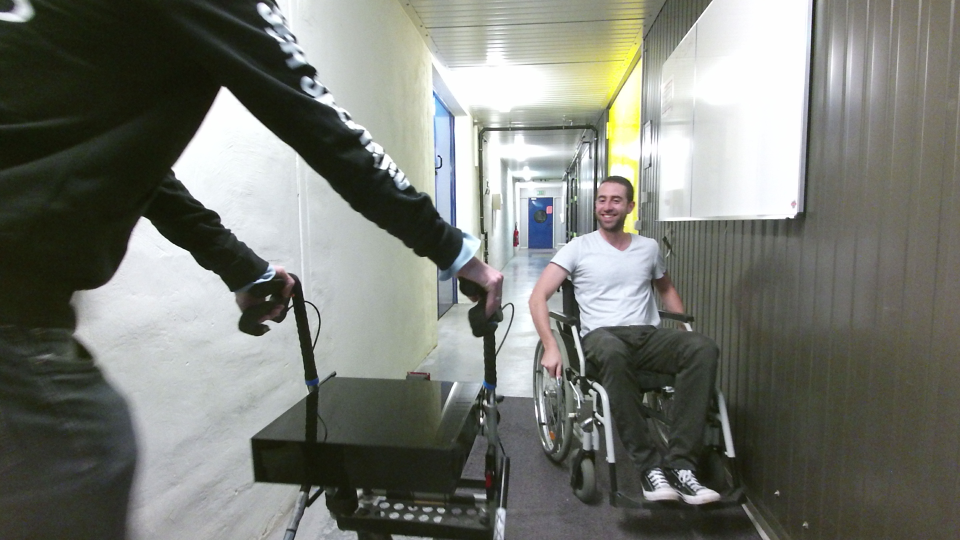wheelchair: (517, 173, 751, 515)
